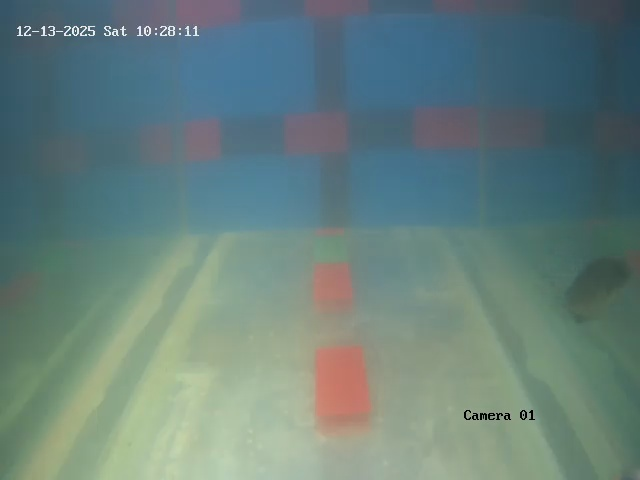fish: (558, 240, 634, 326)
